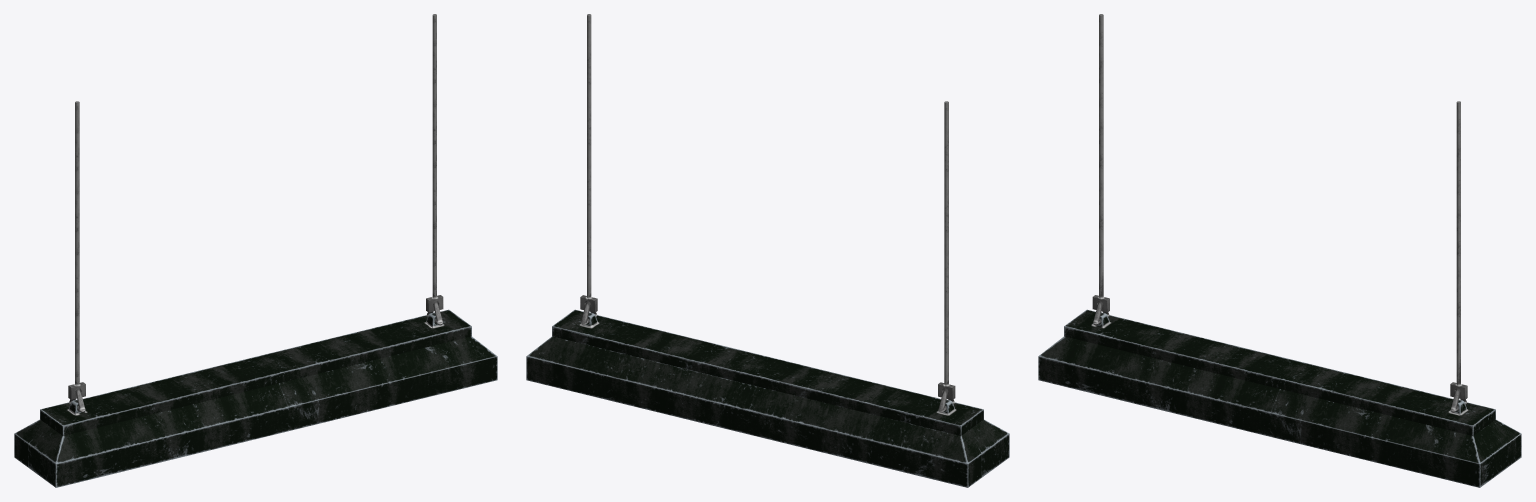
Rendered from low-poly-hanging-light.glb.
The picture shows the model from 3 angles, left to right: view 1: azimuth 30°, elevation 25°; view 2: azimuth 150°, elevation 25°; view 3: azimuth 330°, elevation 25°; orthographic projection.
Parts seen in each view (by area): view 1: Cube, Cylinder.002, Cylinder.001; view 2: Cube, Cylinder.002, Cylinder.001; view 3: Cube, Cylinder.001, Cylinder.002.
Boxes of the visible parts, x1=… form: Cube: x1=14, y1=309, x2=497, y2=487; Cylinder.002: x1=432, y1=14, x2=436, y2=298; Cylinder.001: x1=75, y1=101, x2=79, y2=385; Cube: x1=526, y1=309, x2=1009, y2=487; Cylinder.002: x1=587, y1=14, x2=591, y2=298; Cylinder.001: x1=944, y1=101, x2=948, y2=385; Cube: x1=1038, y1=309, x2=1521, y2=487; Cylinder.001: x1=1099, y1=14, x2=1103, y2=298; Cylinder.002: x1=1456, y1=101, x2=1460, y2=385.
Bounding box in the file's own units: 12.23 × 9.54 × 2.
Materials: 1 (1 with a texture image).
